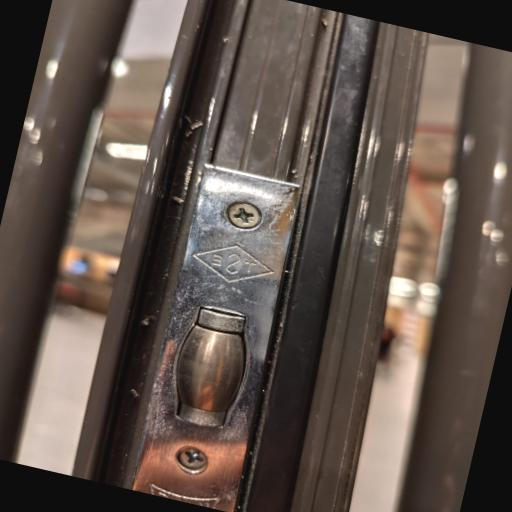Phillips: (217, 193, 268, 238), (170, 436, 216, 480)
